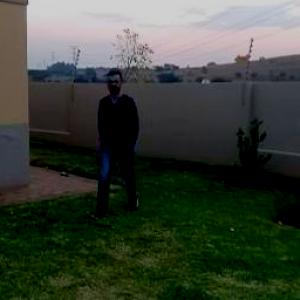follow: (92, 69, 140, 205)
